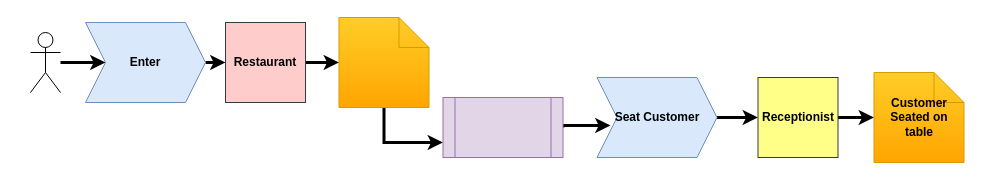
The diagram is 982 pixels wide and 180 high, and some of its shapes have lost their labels. The shapes that lost their labels are listed below. From the top down, each one's box as (x1, y1, x2, y2) in pixels, then its label:
(30, 32, 60, 92): Customer
(338, 16, 429, 108): Customer Entered Restaurant
(442, 96, 563, 158): Receptionist Policy
